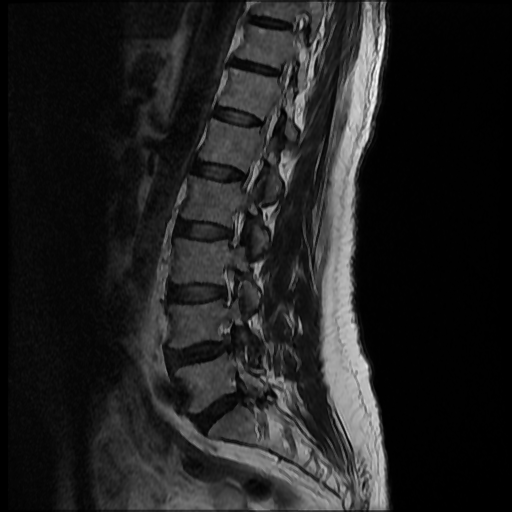LFS0: (214, 202, 256, 260), (206, 261, 251, 312), (227, 152, 273, 200)
